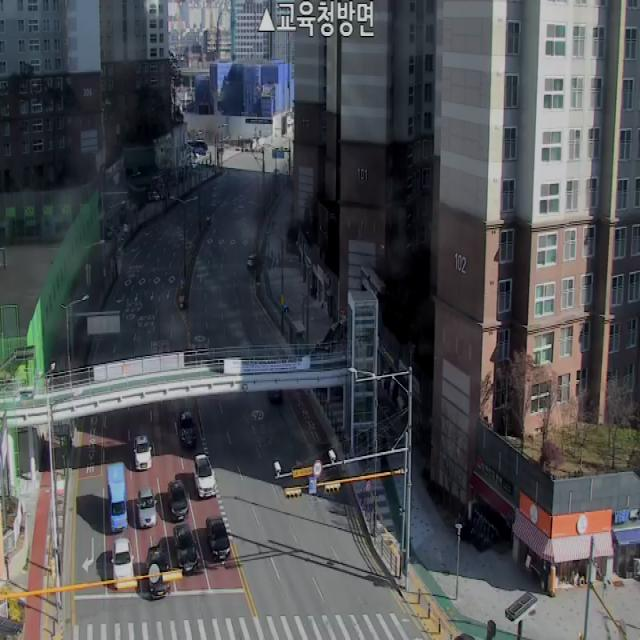Car: (146, 547, 170, 600), (111, 538, 135, 589), (174, 524, 198, 573), (207, 517, 230, 561), (194, 454, 216, 498), (168, 480, 188, 521), (137, 488, 157, 528), (180, 411, 197, 448), (134, 436, 152, 470), (268, 390, 284, 401), (247, 255, 256, 267)
Truck: (108, 463, 128, 533)
